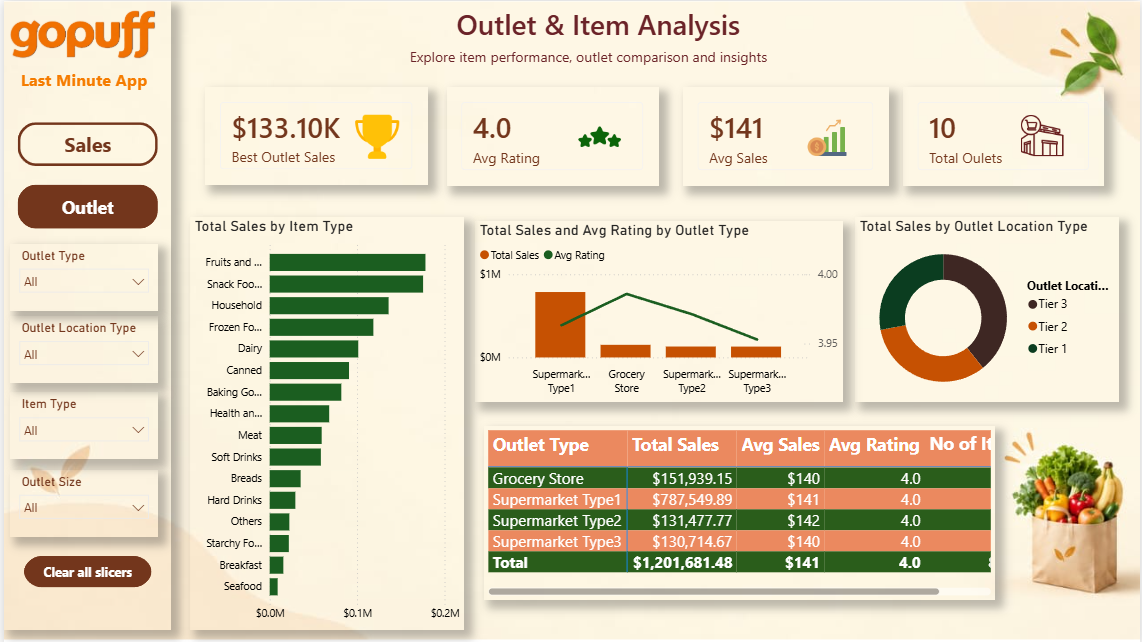

The dashboard page shown, as its layout file describes it:
{"tool":"powerbi","page":{"name":"Outlet","canvas":[1300,738],"ordinal":1},"visuals":[{"type":"cardVisual","fields":{"Data":["Dax Measures (2).Best Outlet Sales"]},"box":[230,98.6,254.3,111.4],"z":0},{"type":"cardVisual","fields":{"Data":["Dax Measures (2).Avg Rating"]},"box":[505.7,98.6,242.9,112.9],"z":1},{"type":"cardVisual","fields":{"Data":["Dax Measures (2).Avg Sales"]},"box":[775.7,98.6,235.7,112.9],"z":2},{"type":"cardVisual","fields":{"Data":["Dax Measures (2).Total Oulets"]},"box":[1027.1,98.6,230,112.9],"z":3},{"type":"barChart","fields":{"Category":["zapp_data.Item Type"],"Y":["Dax Measures (2).Total Sales"]},"box":[212.9,247.1,312.9,471.4],"z":4},{"type":"lineClusteredColumnComboChart","fields":{"Category":["zapp_data.Outlet Type"],"Y":["Dax Measures (2).Total Sales"],"Y2":["Dax Measures (2).Avg Rating"]},"box":[538.6,251.4,420,207.1],"z":7},{"type":"pivotTable","fields":{"Rows":["zapp_data.Outlet Type"],"Values":["Dax Measures (2).Total Sales","Dax Measures (2).Avg Sales","Dax Measures (2).Avg Rating","Dax Measures (2).No of Items"]},"box":[548.6,485.7,584.3,198.6],"z":8},{"type":"textbox","box":[407.1,0,544.3,62.9],"z":18},{"type":"textbox","box":[377.1,47.1,581.7,41.7],"z":19},{"type":"donutChart","fields":{"Category":["zapp_data.Outlet Location Type"],"Y":["Dax Measures (2).Total Sales"]},"box":[972.9,247.1,301.4,211.4],"z":20},{"type":"shape","box":[0,0,191.4,718.6],"z":21},{"type":"image","box":[7.1,0,165.7,78.6],"z":22},{"type":"actionButton","box":[15.7,138.6,160,50],"z":23},{"type":"actionButton","box":[15.7,210,160,50],"z":24},{"type":"slicer","fields":{"Values":["zapp_data.Outlet Type"]},"box":[7.1,277.1,168.6,77.1],"z":25},{"type":"slicer","fields":{"Values":["zapp_data.Outlet Location Type"]},"box":[7.1,360,168.6,77.1],"z":26},{"type":"slicer","fields":{"Values":["zapp_data.Item Type"]},"box":[7.1,447.1,168.6,77.1],"z":27},{"type":"slicer","fields":{"Values":["zapp_data.Outlet Size"]},"box":[7.1,535.7,168.6,77.1],"z":28},{"type":"actionButton","box":[22.9,634.3,145.7,35.7],"z":29},{"type":"image","box":[395.7,130,61.4,50],"z":30},{"type":"image","box":[650,130,61.4,50],"z":31},{"type":"image","box":[910,130,61.4,50],"z":32},{"type":"image","box":[1155.7,128.6,61.4,50],"z":33},{"type":"textbox","box":[8.6,72.9,165.7,50],"z":34}]}

Visuals, with their boxes in screenshot pixels (x1, y1, x2, y2), scaled from the page's 1300x738 canvas onto the 1142x642 screenshot:
cardVisual - Dax Measures (2).Best Outlet Sales: 202,86,425,183
cardVisual - Dax Measures (2).Avg Rating: 444,86,658,184
cardVisual - Dax Measures (2).Avg Sales: 681,86,888,184
cardVisual - Dax Measures (2).Total Oulets: 902,86,1104,184
barChart - zapp_data.Item Type x Dax Measures (2).Total Sales: 187,215,462,625
lineClusteredColumnComboChart - zapp_data.Outlet Type x Dax Measures (2).Total Sales: 473,219,842,399
pivotTable - zapp_data.Outlet Type x Dax Measures (2).Total Sales: 482,423,995,595
textbox: 358,0,836,55
textbox: 331,41,842,77
donutChart - zapp_data.Outlet Location Type x Dax Measures (2).Total Sales: 855,215,1119,399
shape: 0,0,168,625
image: 6,0,152,68
actionButton: 14,121,154,164
actionButton: 14,183,154,226
slicer - zapp_data.Outlet Type: 6,241,154,308
slicer - zapp_data.Outlet Location Type: 6,313,154,380
slicer - zapp_data.Item Type: 6,389,154,456
slicer - zapp_data.Outlet Size: 6,466,154,533
actionButton: 20,552,148,583
image: 348,113,402,157
image: 571,113,625,157
image: 799,113,853,157
image: 1015,112,1069,155
textbox: 8,63,153,107
